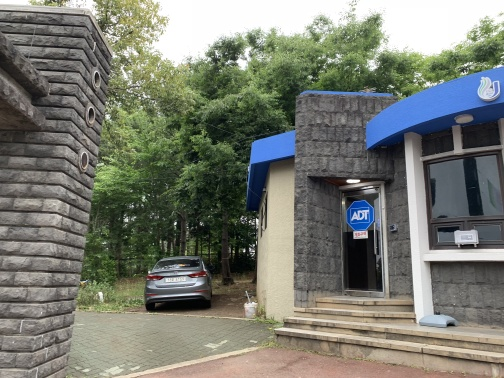Security Office: (246, 68, 503, 366)
